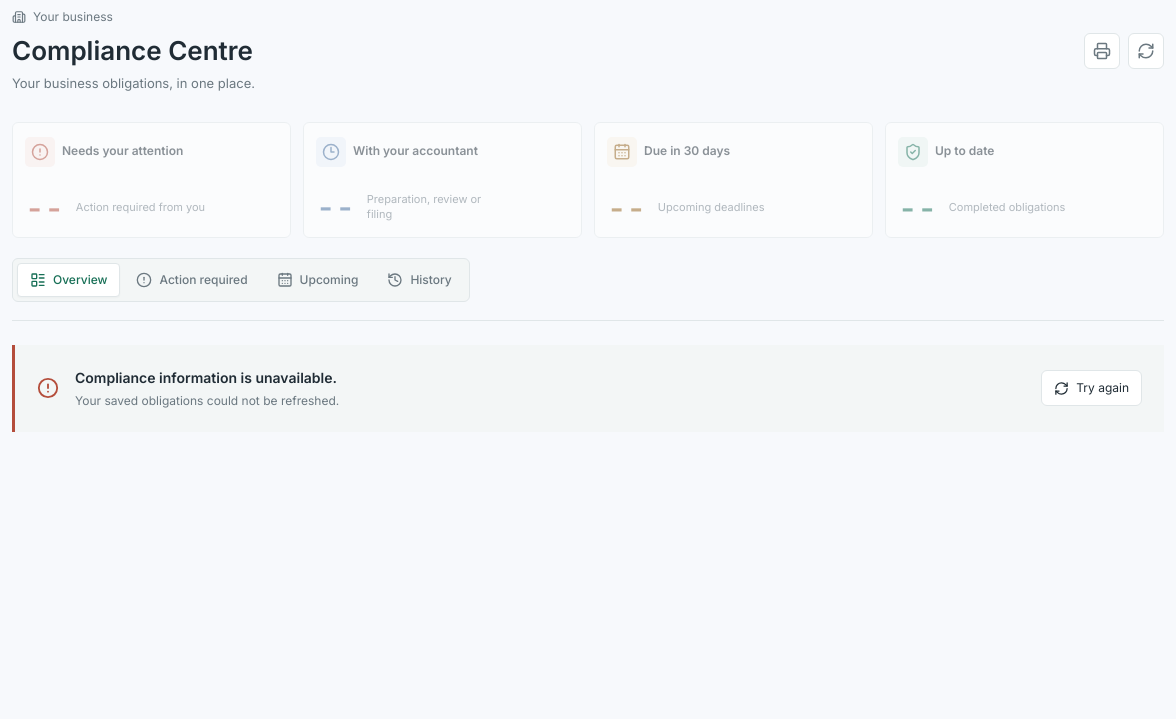
Test: ClientComplianceCentrePage › keeps obligations available when history fails and provides a retry for obligation failures
Check: the message shows "Compliance information is unavailable.", box 75,369 -> 337,386
Click the button "Try again" at (1092, 388), box 1041,370 -> 1142,406
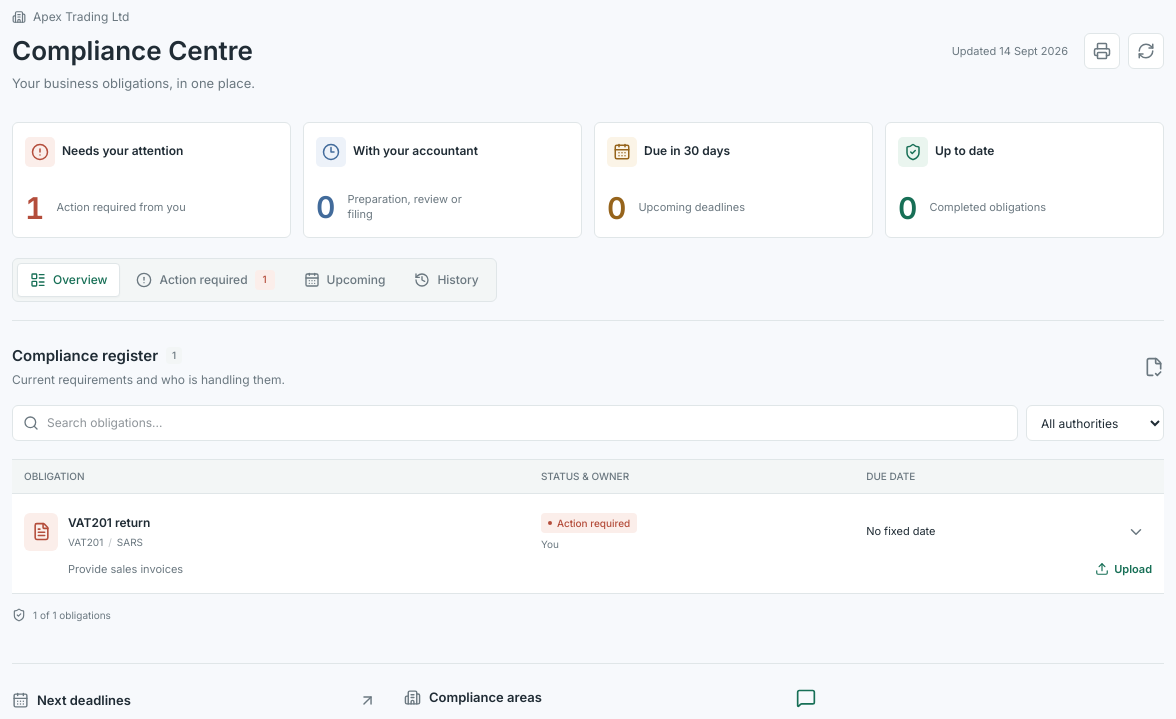
Check: the text "VAT201" is shown, box 68,535 -> 103,550
Click the button "History" at (447, 280), box 401,263 -> 492,297
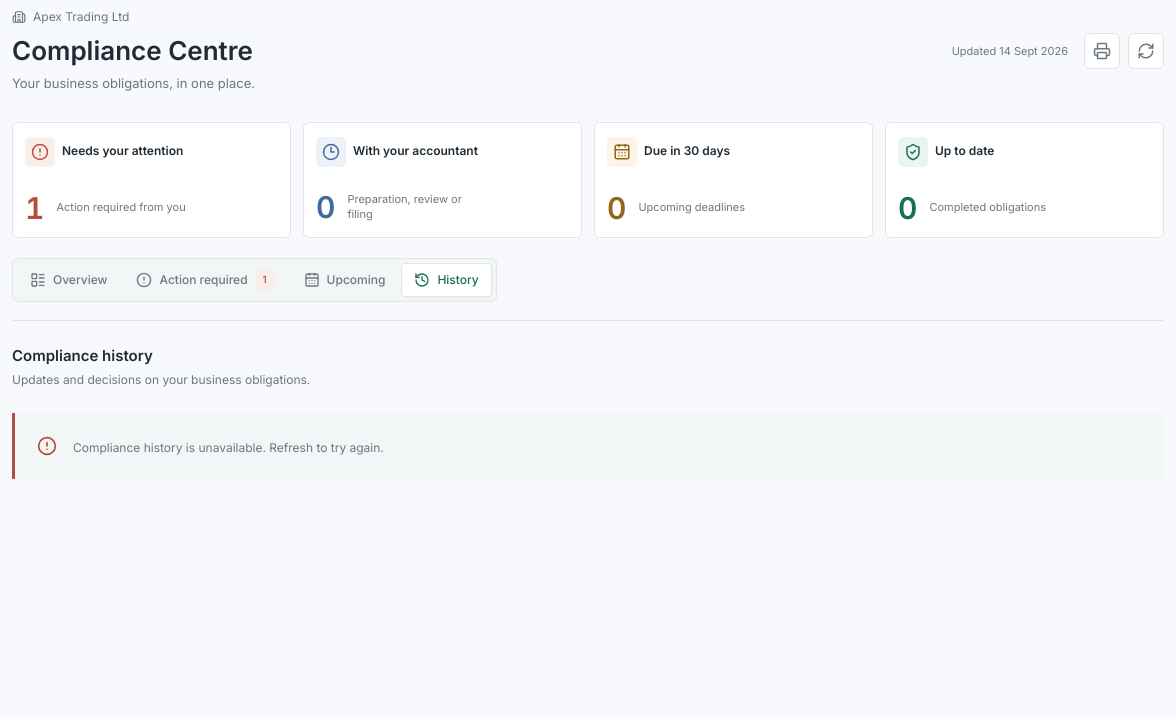
Check: the message shows "Compliance history is unavailable", box 73,440 -> 384,455
